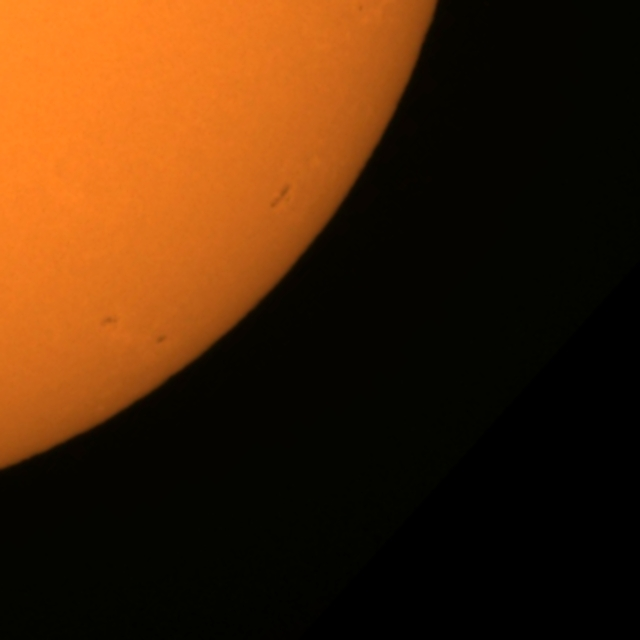sunspot: (267, 180, 293, 211), (98, 313, 121, 330), (154, 332, 169, 346), (356, 2, 366, 15)
